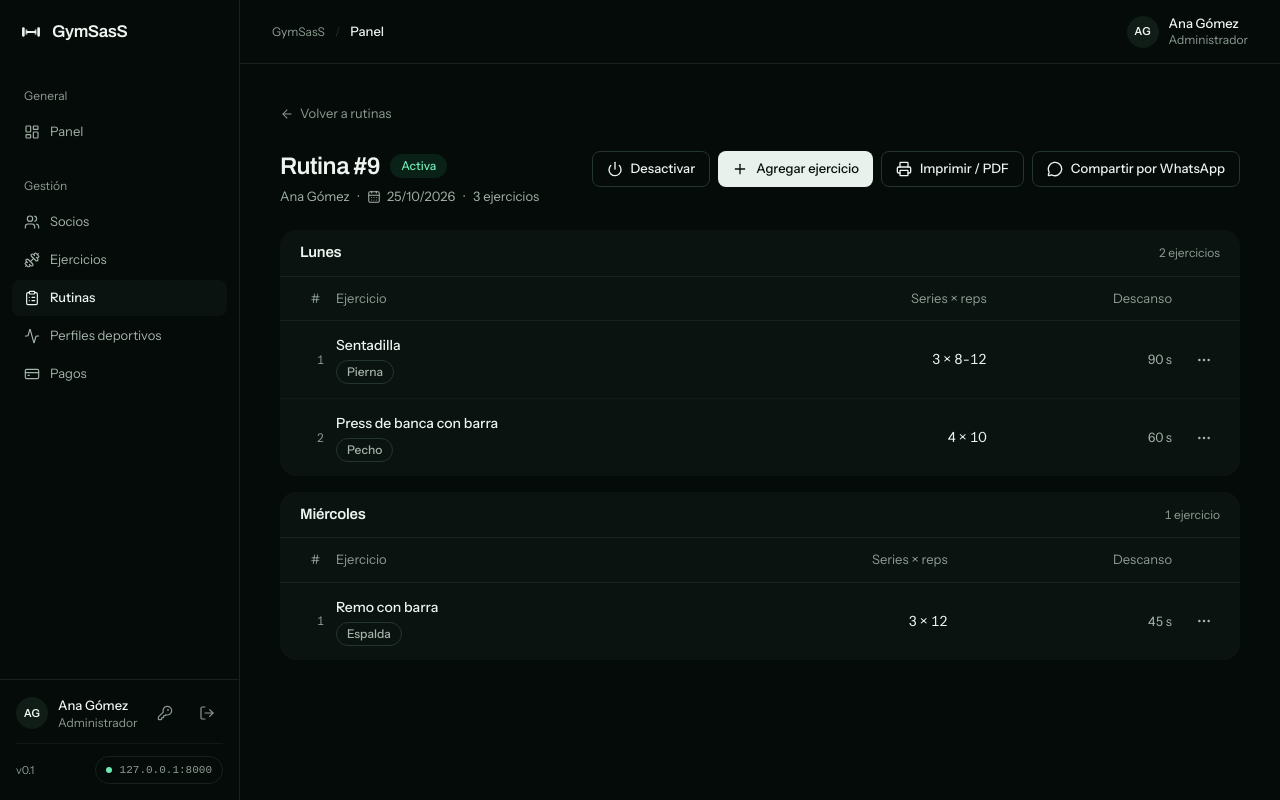
Test: flujo de rutinas › desactiva una rutina desde el detalle
Click the button "Desactivar": (651, 169) [592,151,710,187]
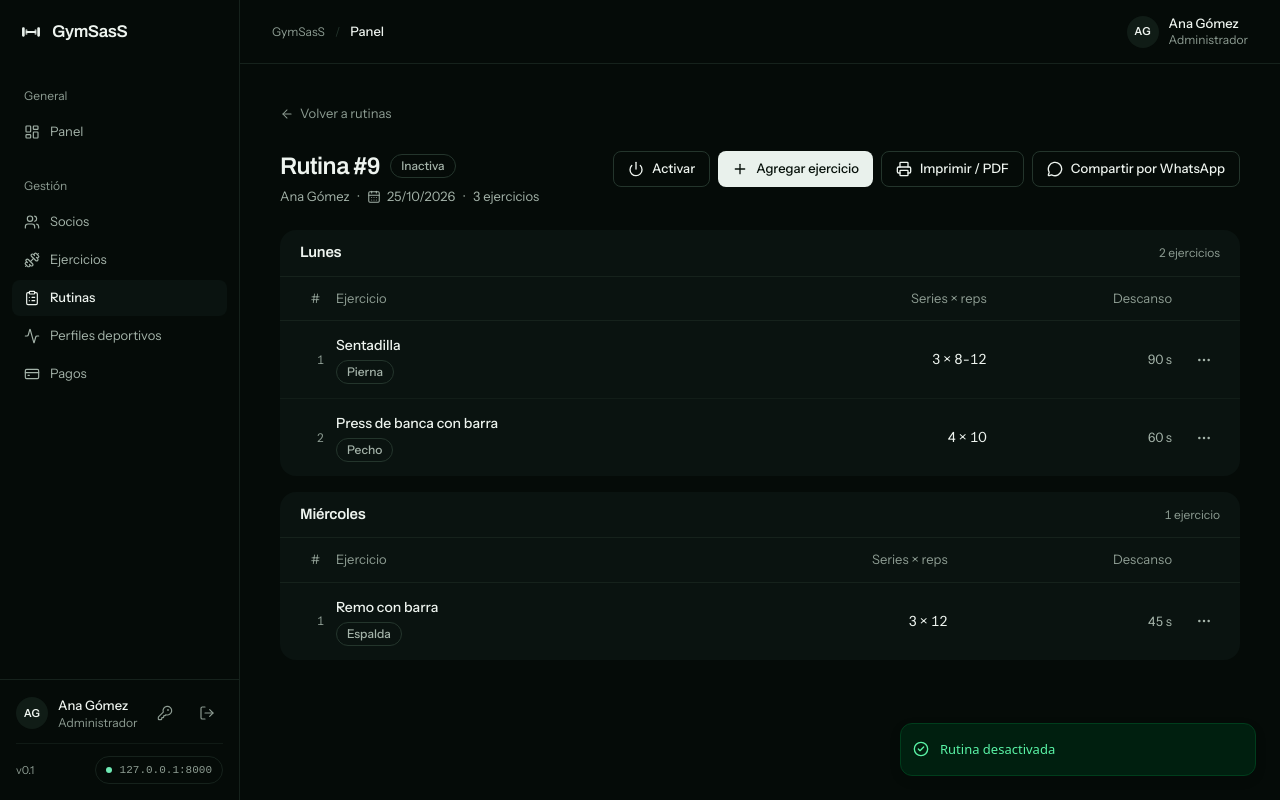
Check: the button "Activar" is shown, box [613,151,710,187]
Check: the text "Rutina desactivada" is shown, box [940,740,1055,759]
